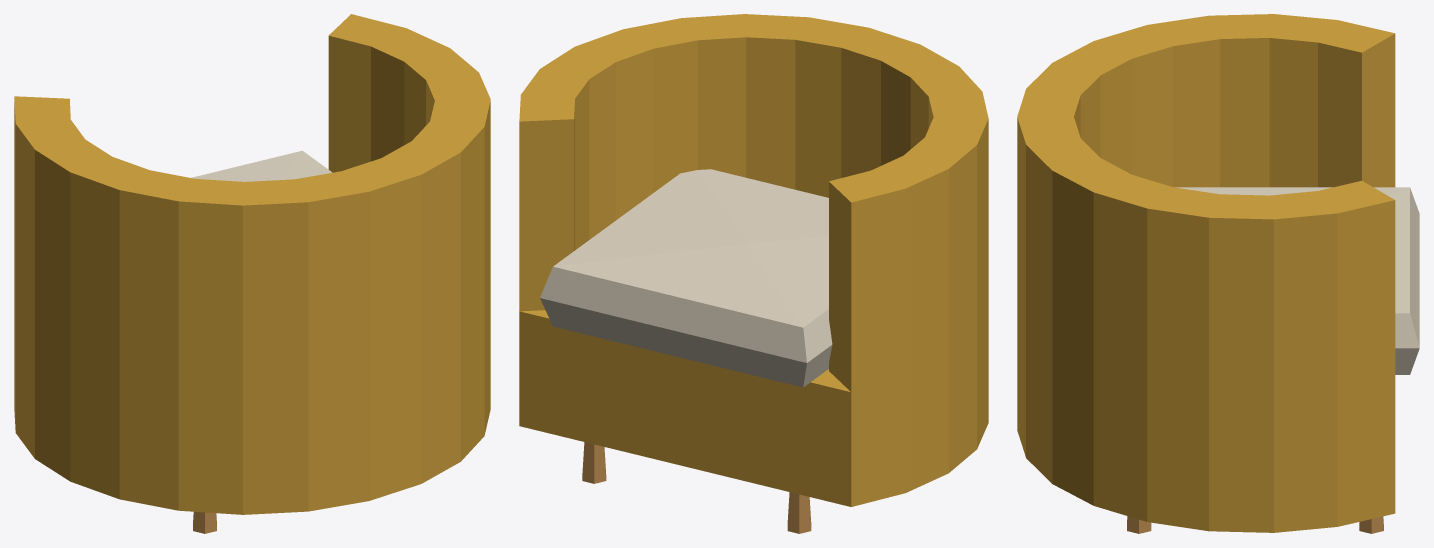
File: SM_LPI_Seat_Armchair_03.fbx
The picture shows the model from 3 angles, left to right: view 1: azimuth 30°, elevation 25°; view 2: azimuth 150°, elevation 25°; view 3: azimuth 270°, elevation 25°; orthographic projection. The views are drawn at different scales.
Visible parts, largest first — view 1: SM_LPI_Seat_Armchair_03; view 2: SM_LPI_Seat_Armchair_03; view 3: SM_LPI_Seat_Armchair_03.
Boxes of the visible parts, x1=… form: SM_LPI_Seat_Armchair_03: x1=14, y1=14, x2=490, y2=533; SM_LPI_Seat_Armchair_03: x1=519, y1=14, x2=988, y2=533; SM_LPI_Seat_Armchair_03: x1=1017, y1=14, x2=1419, y2=533.
Size of the model in its own units: 0.8573 by 0.7 by 0.71.
